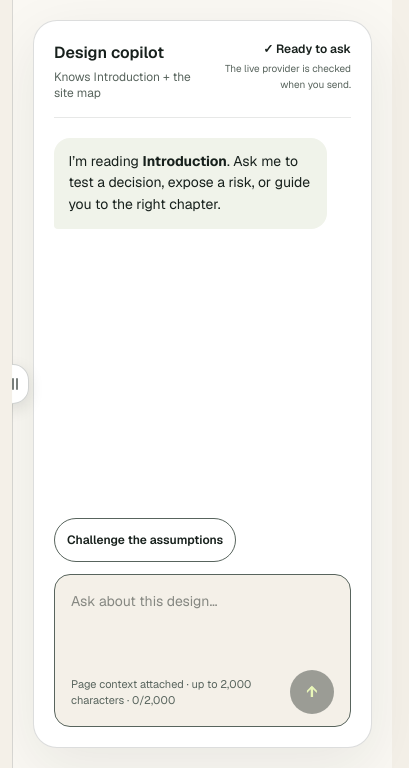
ChatPanel service states › shows ready after a configuration-only check and renders successful answers
Expected: the text "Ready to ask" is shown, [276, 41, 351, 57]
In the text box named "Ask about Introduction": (202, 623) [63, 583, 342, 663], type "Review this"
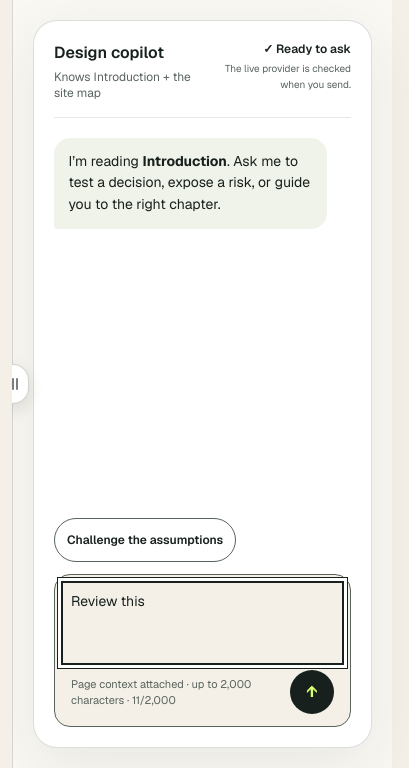
Click the button named "Send question": (312, 692) [290, 670, 334, 714]
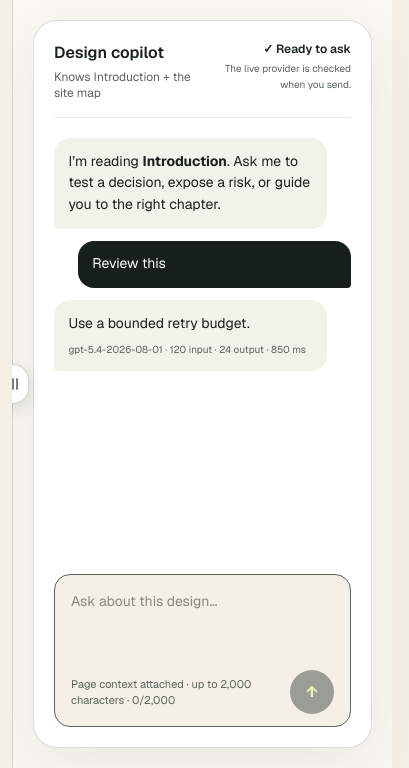
Expected: the text "Use a bounded retry budget." is shown, [68, 314, 250, 332]
Expected: the text "gpt-5.4-2026-08-01 · 120 input · 24 output · 850 ms" is shown, [68, 342, 313, 358]
